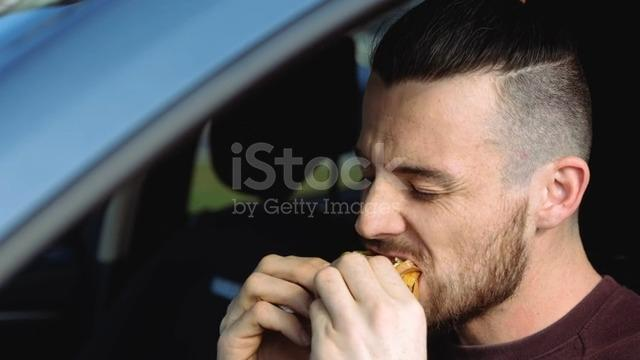Eating: (238, 21, 595, 354)
